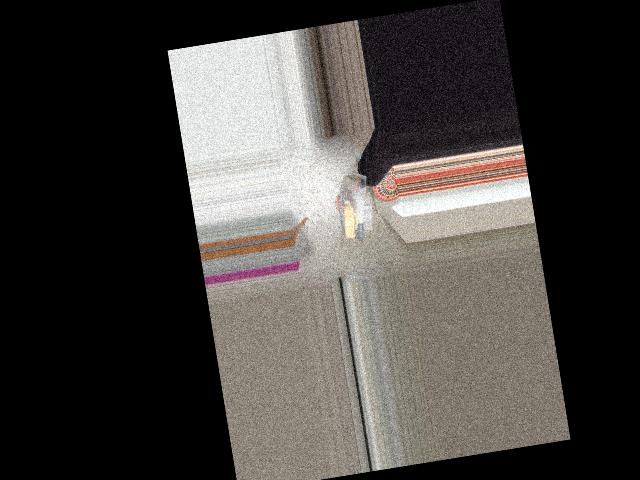cheese: (332, 168, 378, 242)
